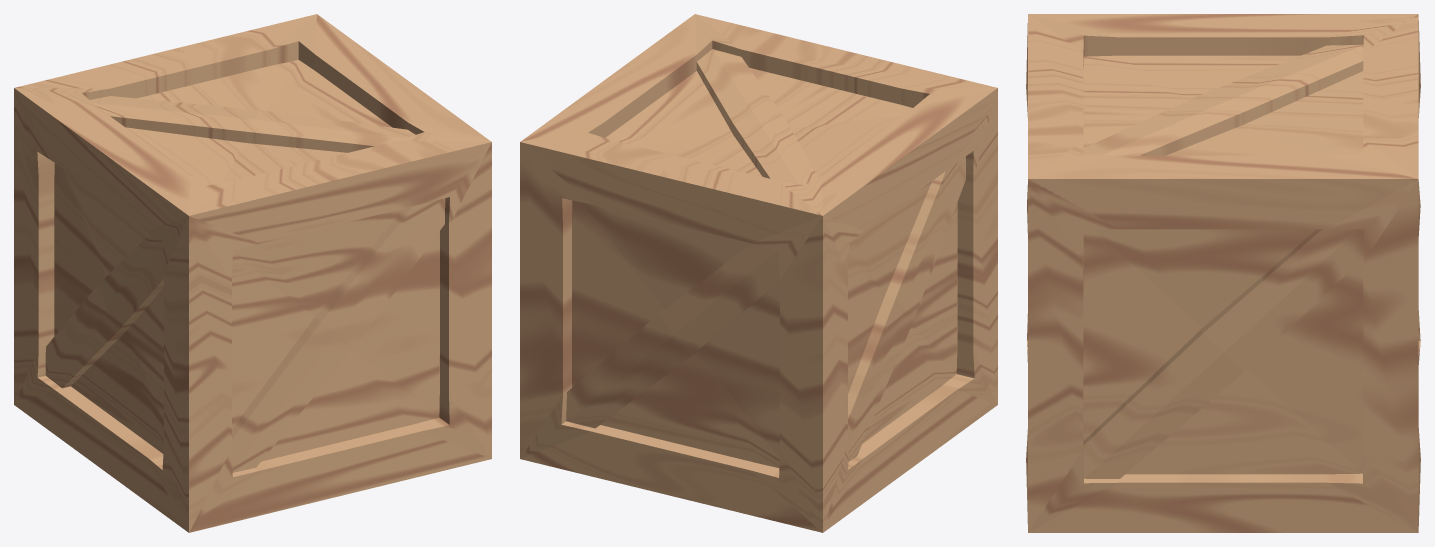
File: BantChestthree.fbx
The picture shows the model from 3 angles, left to right: view 1: azimuth 30°, elevation 25°; view 2: azimuth 150°, elevation 25°; view 3: azimuth 270°, elevation 25°; orthographic projection. The views are drawn at different scales.
Parts seen in each view (by area): view 1: Cube; view 2: Cube; view 3: Cube.
Part boxes in pixels (box(x1,y1,x2,y2)): Cube: box(14, 14, 491, 532); Cube: box(520, 14, 997, 532); Cube: box(1026, 14, 1420, 532).
Bounding box in the file's own units: 202 × 202 × 202.
